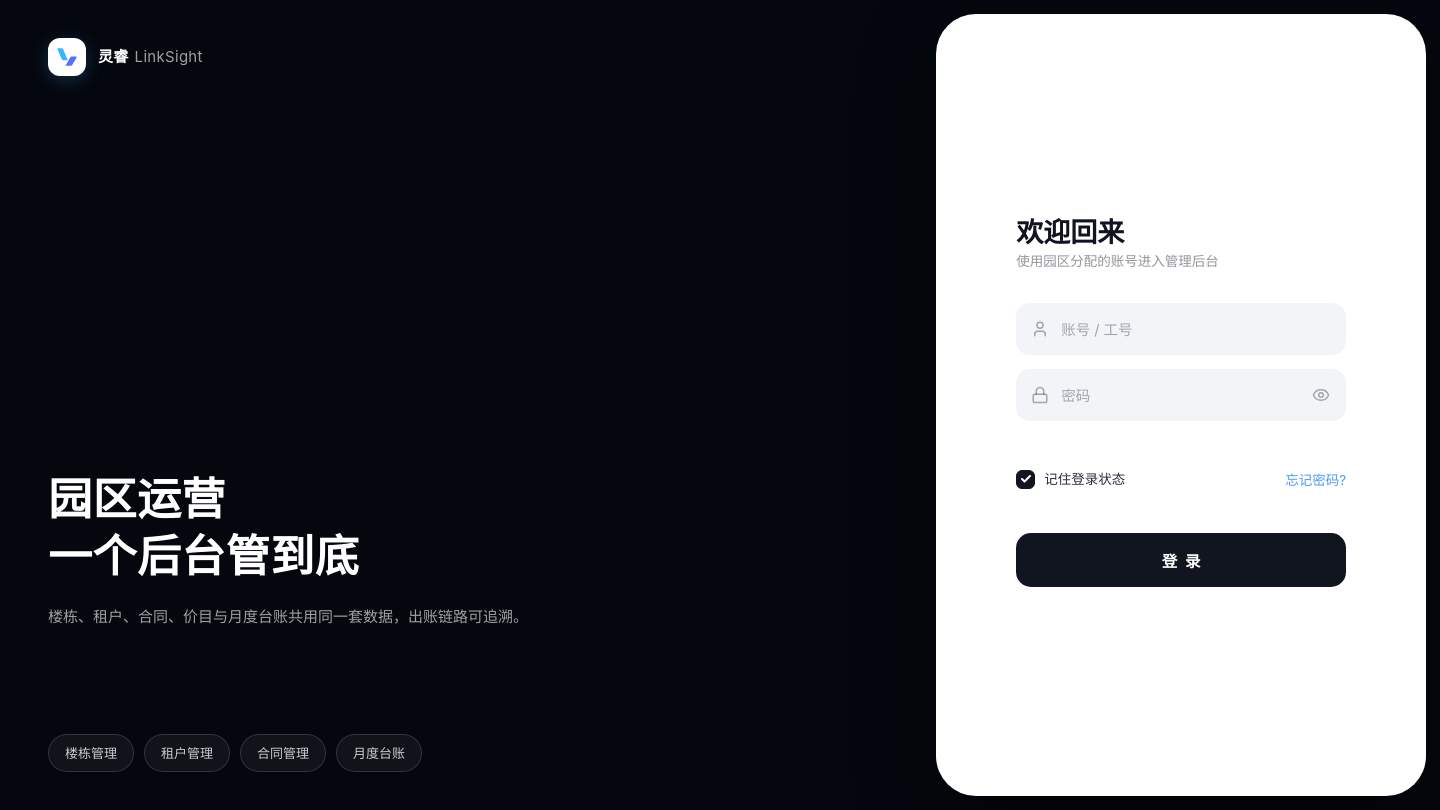
it: 登录页的一句 › ❗密码对、账号已停用 ⇒ 登录页照显后端那句「账号已停用，请联系管理员」
Type "zhang" into the field with placeholder "账号 / 工号" at (1181, 329), box [1016,303,1346,355]
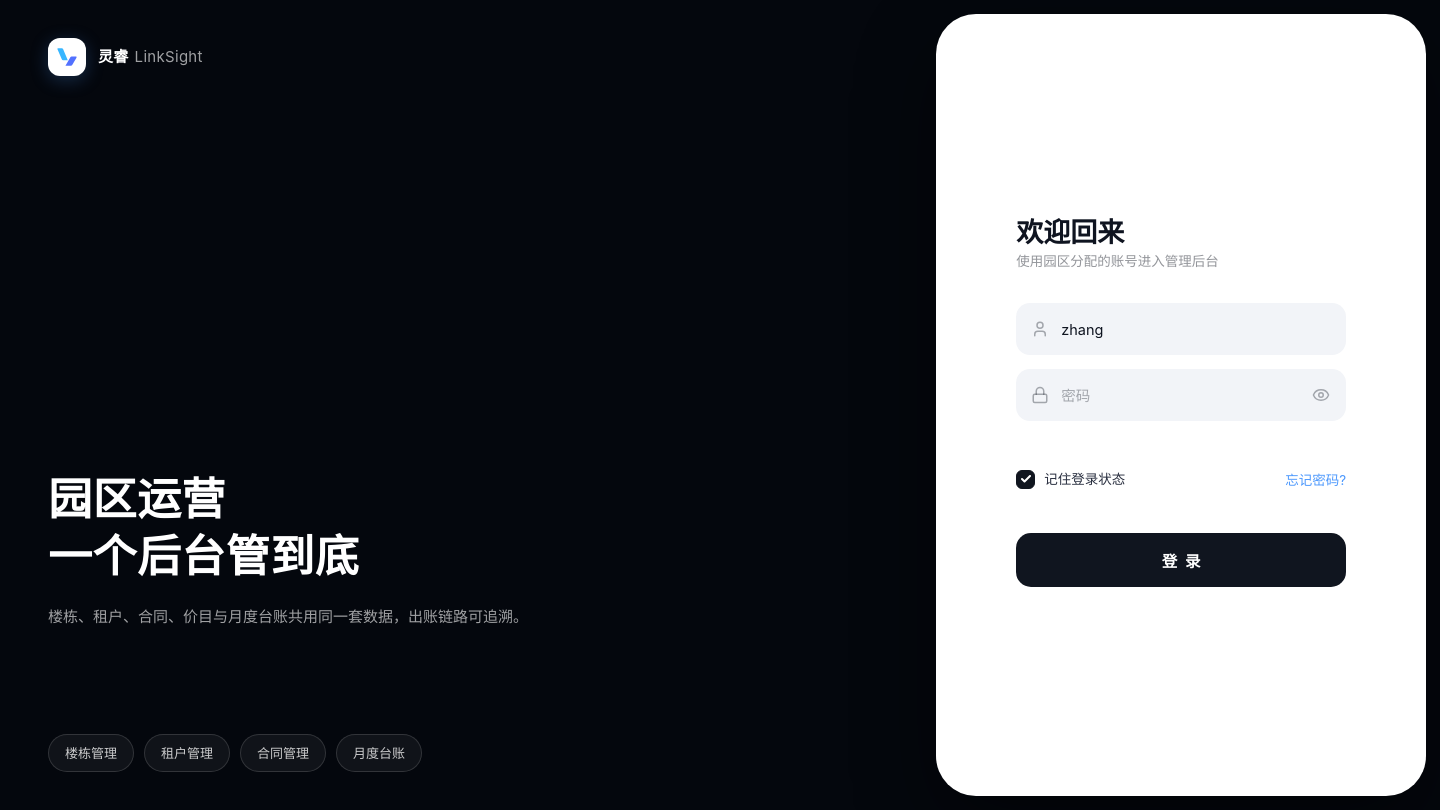
Type "pw12345678" into the password field with placeholder "密码" at (1181, 395), box [1016,369,1346,421]
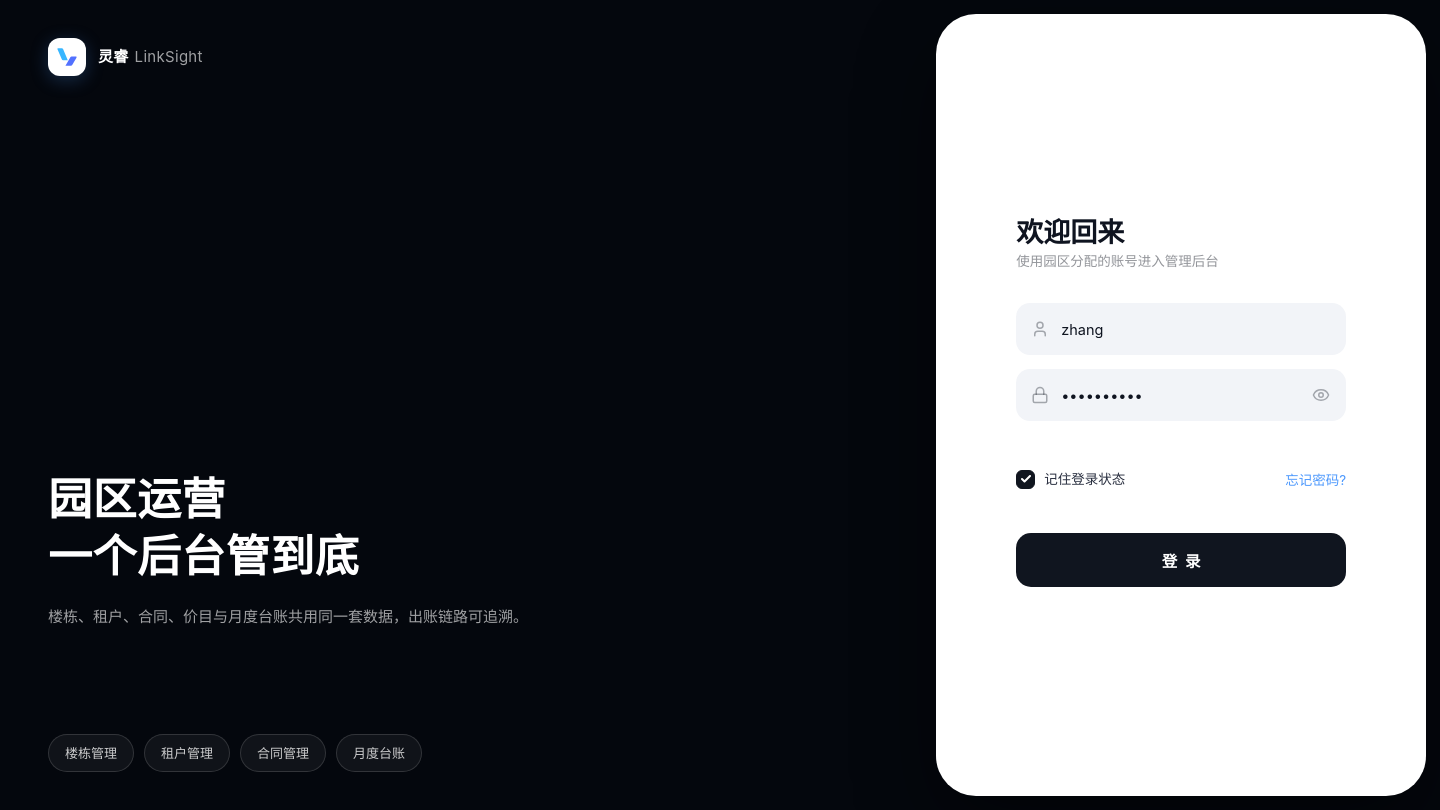
Submit the form, box [1016,223,1346,587]
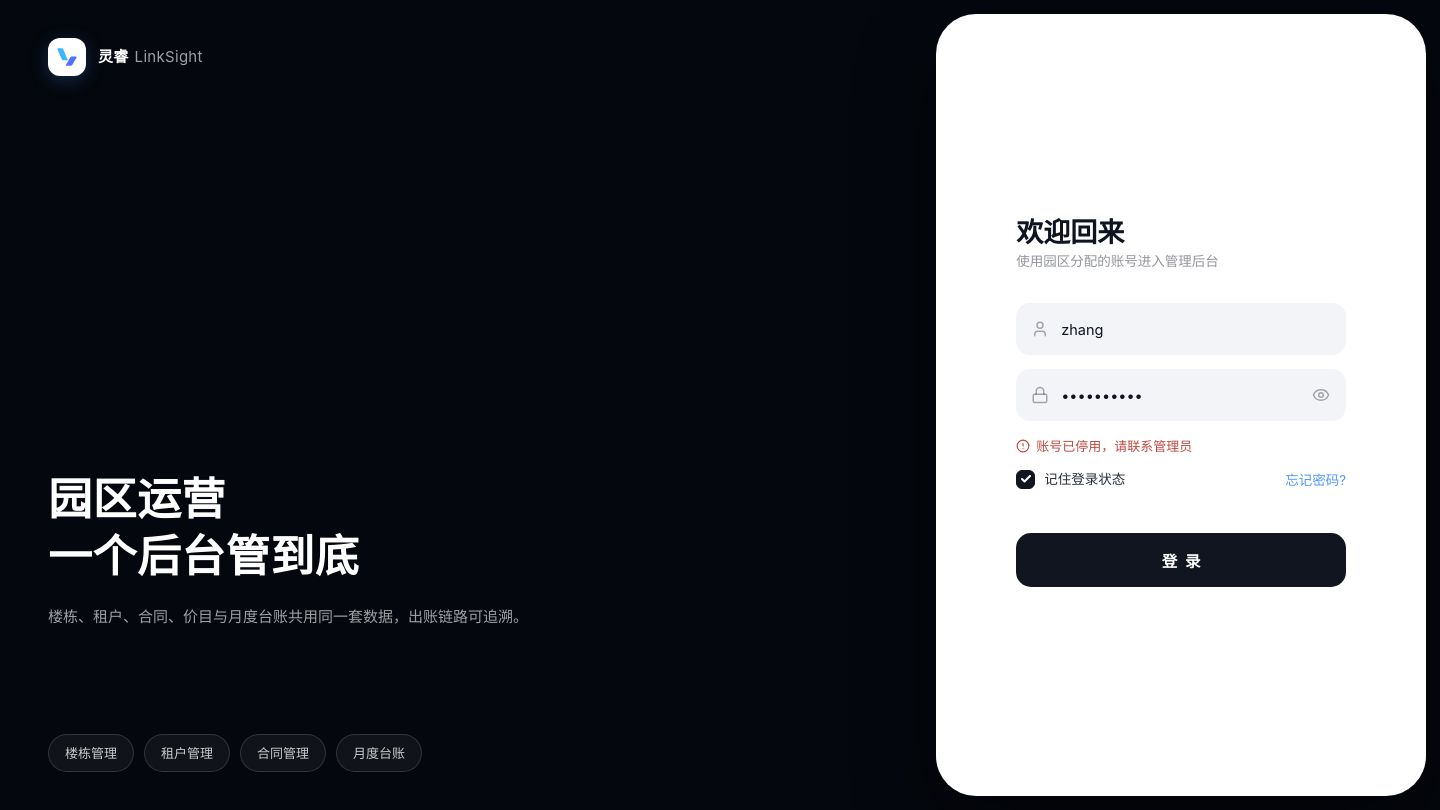
Expected: the element with class "lg-err" reads "账号已停用，请联系管理员", [1036,438,1192,454]
